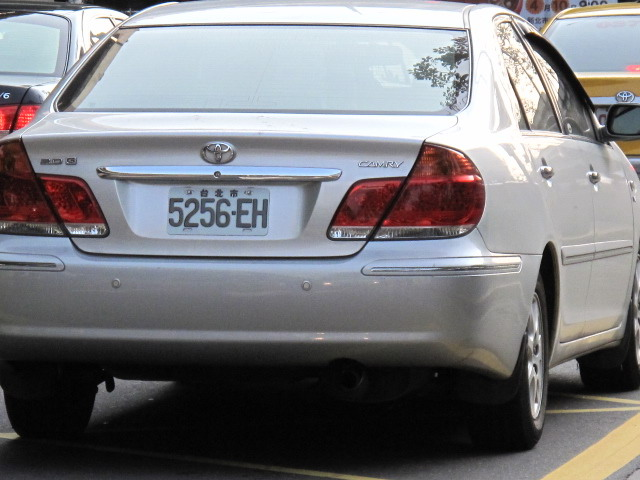plate: (164, 184, 272, 238)
